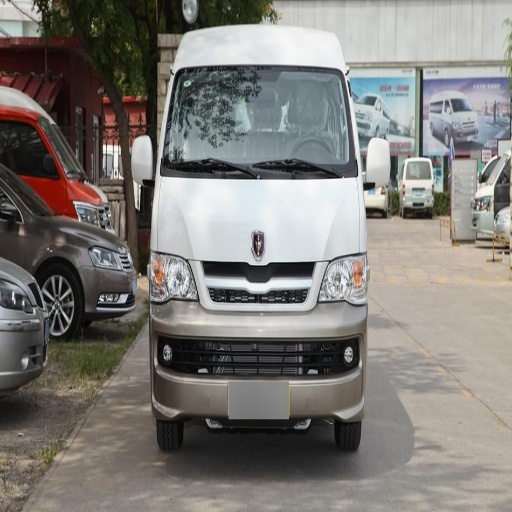front_bumper: (151, 258, 367, 429)
front_left_light: (320, 252, 368, 302)
front_right_light: (145, 253, 196, 301)
hood: (156, 177, 362, 265)
